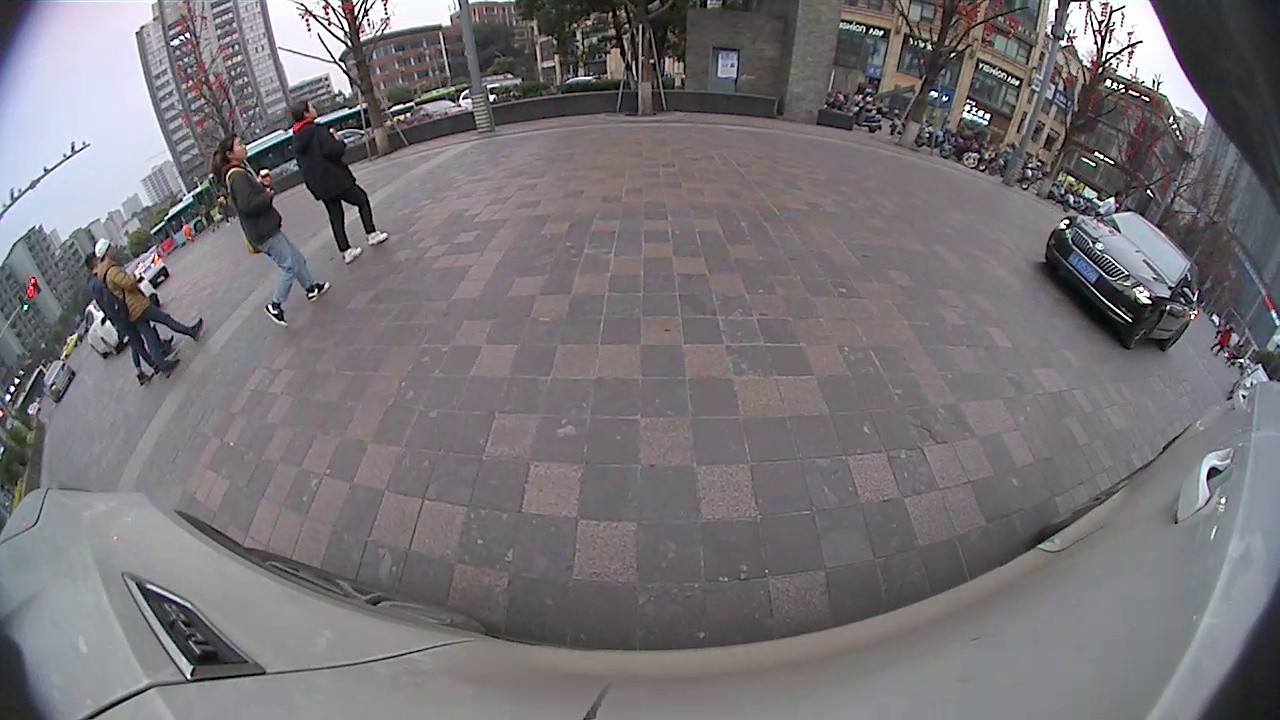bus: (242, 99, 366, 179)
car: (1043, 206, 1201, 353)
front: (1123, 308, 1165, 353)
person: (219, 134, 253, 321), (289, 98, 326, 262), (96, 238, 119, 357)
